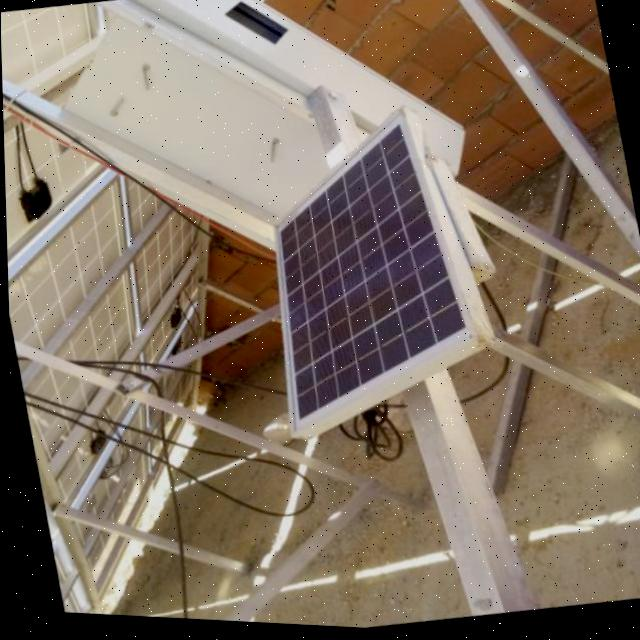Normal Solar Panel: (233, 99, 487, 445)
